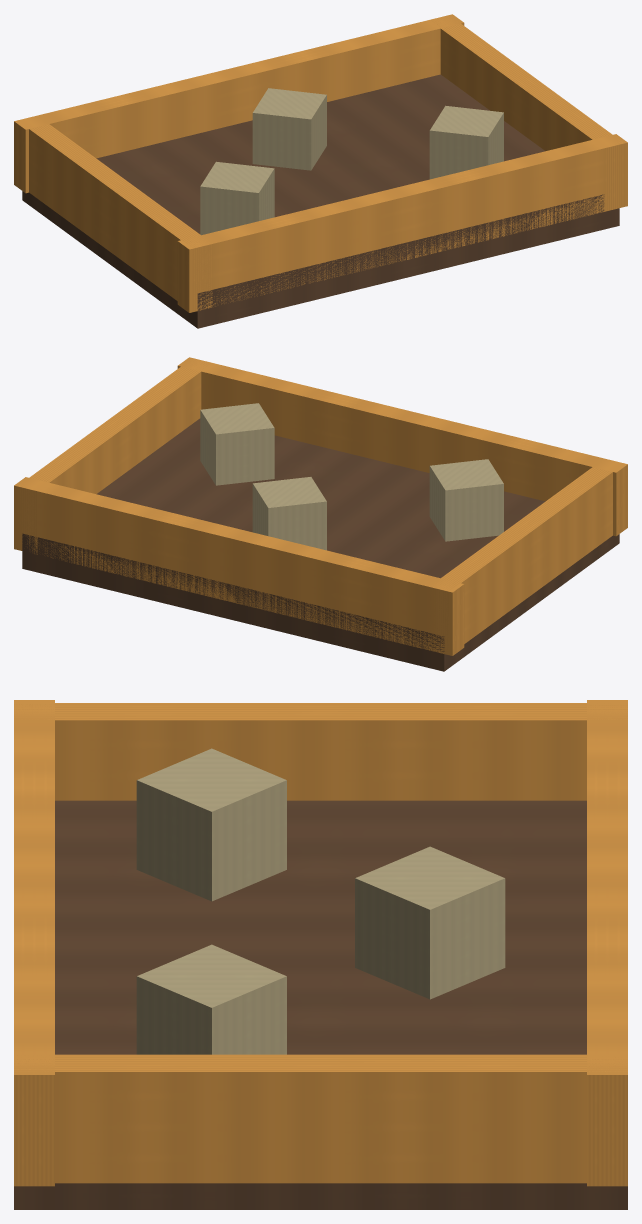
File: atlas100-s014-a03.lod2.glb
3 views of the same model, one above another, from view 1: azimuth 30°, elevation 25°; view 2: azimuth 150°, elevation 25°; view 3: azimuth 270°, elevation 25° (orthographic). The views are drawn at different scales.
Visible parts, largest first — view 1: atlas100-s014-a03:part-000, atlas100-s014-a03:part-002, atlas100-s014-a03:part-001, atlas100-s014-a03:part-003, atlas100-s014-a03:part-004, atlas100-s014-a03:part-006, atlas100-s014-a03:part-010, atlas100-s014-a03:part-008; view 2: atlas100-s014-a03:part-000, atlas100-s014-a03:part-001, atlas100-s014-a03:part-002, atlas100-s014-a03:part-003, atlas100-s014-a03:part-004, atlas100-s014-a03:part-010, atlas100-s014-a03:part-008, atlas100-s014-a03:part-006; view 3: atlas100-s014-a03:part-000, atlas100-s014-a03:part-004, atlas100-s014-a03:part-003, atlas100-s014-a03:part-001, atlas100-s014-a03:part-002, atlas100-s014-a03:part-006, atlas100-s014-a03:part-008, atlas100-s014-a03:part-010.
Boxes of the visible parts, bbox=[...] form: atlas100-s014-a03:part-000: bbox=[22, 74, 619, 328]; atlas100-s014-a03:part-002: bbox=[177, 134, 627, 312]; atlas100-s014-a03:part-001: bbox=[14, 14, 464, 193]; atlas100-s014-a03:part-003: bbox=[29, 124, 212, 311]; atlas100-s014-a03:part-004: bbox=[430, 15, 624, 211]; atlas100-s014-a03:part-006: bbox=[252, 88, 326, 170]; atlas100-s014-a03:part-010: bbox=[429, 105, 503, 179]; atlas100-s014-a03:part-008: bbox=[200, 161, 274, 235]; atlas100-s014-a03:part-000: bbox=[22, 418, 619, 671]; atlas100-s014-a03:part-001: bbox=[14, 477, 464, 655]; atlas100-s014-a03:part-002: bbox=[177, 357, 627, 536]; atlas100-s014-a03:part-003: bbox=[429, 467, 612, 654]; atlas100-s014-a03:part-004: bbox=[17, 358, 211, 554]; atlas100-s014-a03:part-010: bbox=[200, 403, 274, 485]; atlas100-s014-a03:part-008: bbox=[429, 459, 503, 541]; atlas100-s014-a03:part-006: bbox=[252, 477, 326, 550]; atlas100-s014-a03:part-000: bbox=[14, 800, 627, 1209]; atlas100-s014-a03:part-004: bbox=[14, 1054, 627, 1183]; atlas100-s014-a03:part-003: bbox=[14, 703, 627, 800]; atlas100-s014-a03:part-001: bbox=[587, 700, 627, 1186]; atlas100-s014-a03:part-002: bbox=[14, 700, 54, 1186]; atlas100-s014-a03:part-006: bbox=[355, 846, 505, 999]; atlas100-s014-a03:part-008: bbox=[136, 748, 286, 901]; atlas100-s014-a03:part-010: bbox=[136, 944, 286, 1054].
Bounding box in the file's own units: 1.36 × 0.2563 × 0.9414.
3 materials, 3 textured.
